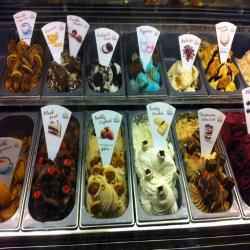icecream: (87, 112, 184, 223), (25, 114, 86, 229), (5, 36, 120, 94), (122, 45, 200, 98)
